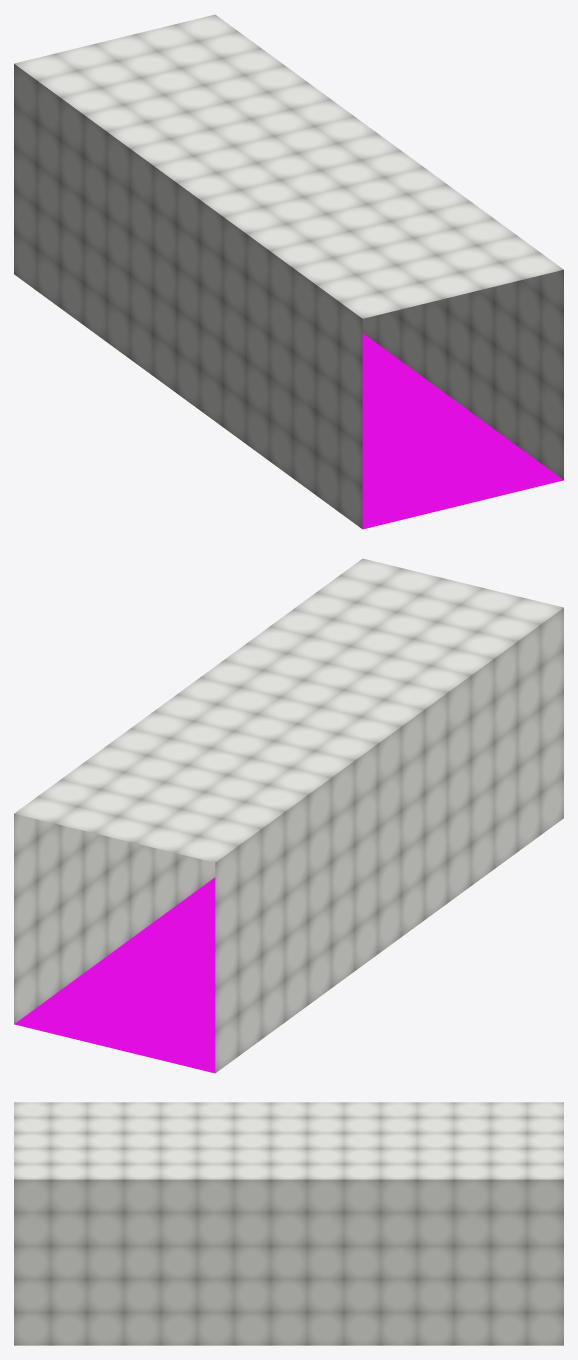
Rendered from hallway.fbx.
3 views of the same model, one above another, from view 1: azimuth 30°, elevation 25°; view 2: azimuth 150°, elevation 25°; view 3: azimuth 270°, elevation 25° (orthographic). The views are drawn at different scales.
Parts seen in each view (by area): view 1: hallway; view 2: hallway; view 3: hallway.
Boxes of the visible parts, x1=… form: hallway: x1=14, y1=14, x2=563, y2=529; hallway: x1=14, y1=558, x2=563, y2=1073; hallway: x1=14, y1=1102, x2=563, y2=1345.
Bounding box in the file's own units: 15 × 5 × 5.
2 materials, 1 textured.
